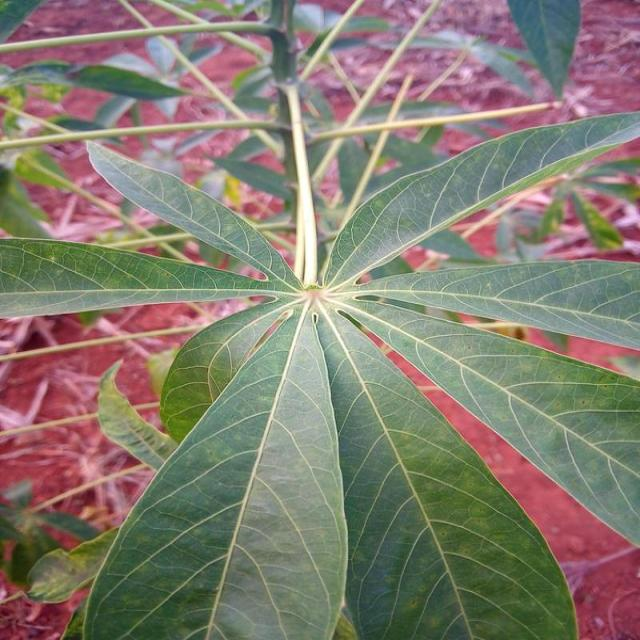cassava leaf: (3, 104, 640, 638), (79, 299, 350, 638)
